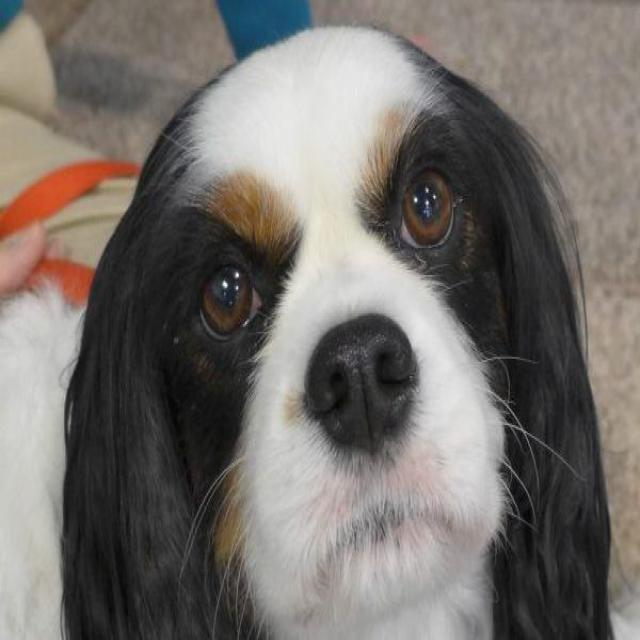eye: (195, 254, 270, 346), (396, 159, 458, 261)
